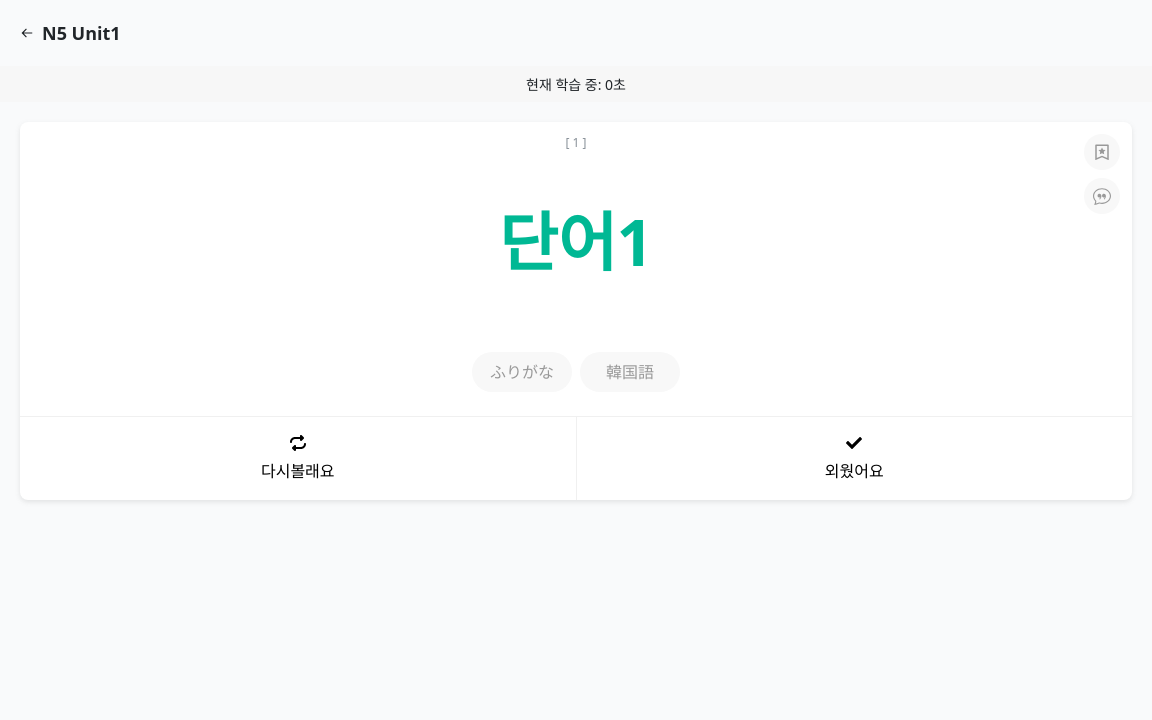
Test: 학습 페이지 흐름 › 마지막 단어를 다시 보기로 남기면 회독 완료로 처리하지 않는다
Check: the text "단어1" is shown, box x1=499 y1=194 x2=653 y2=290
Click the button "외웠어요" at (854, 458), box x1=576 y1=417 x2=1132 y2=500
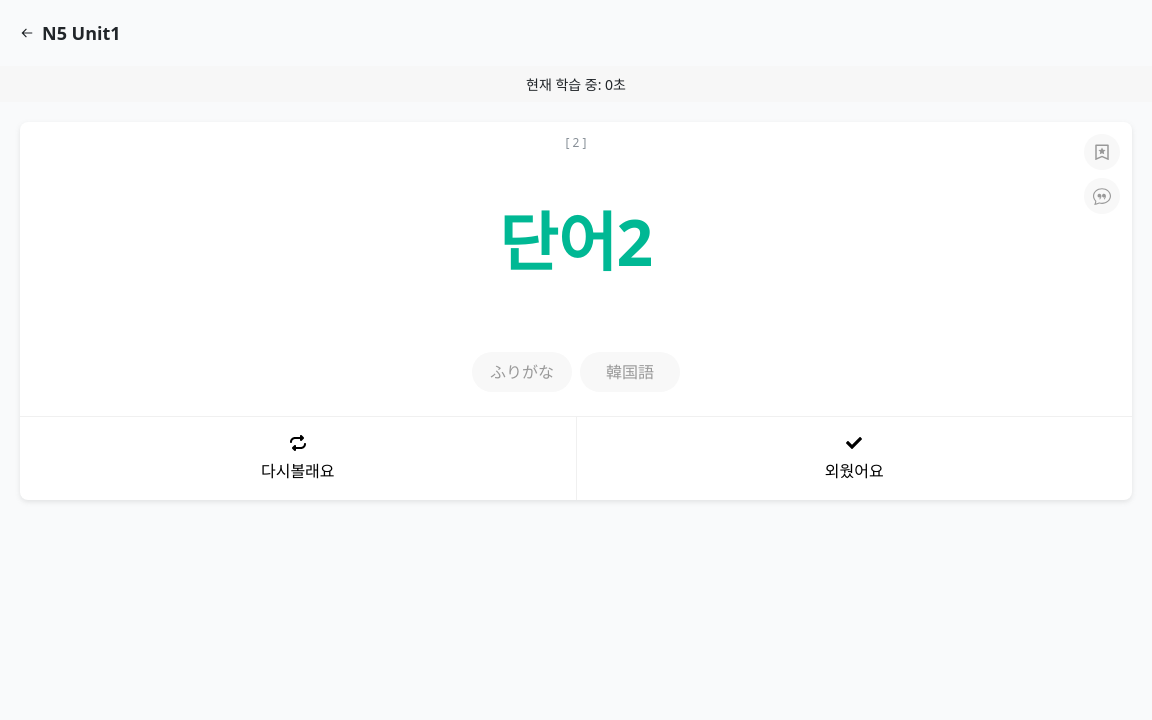
Click the button "외웠어요" at (854, 458), box x1=576 y1=417 x2=1132 y2=500
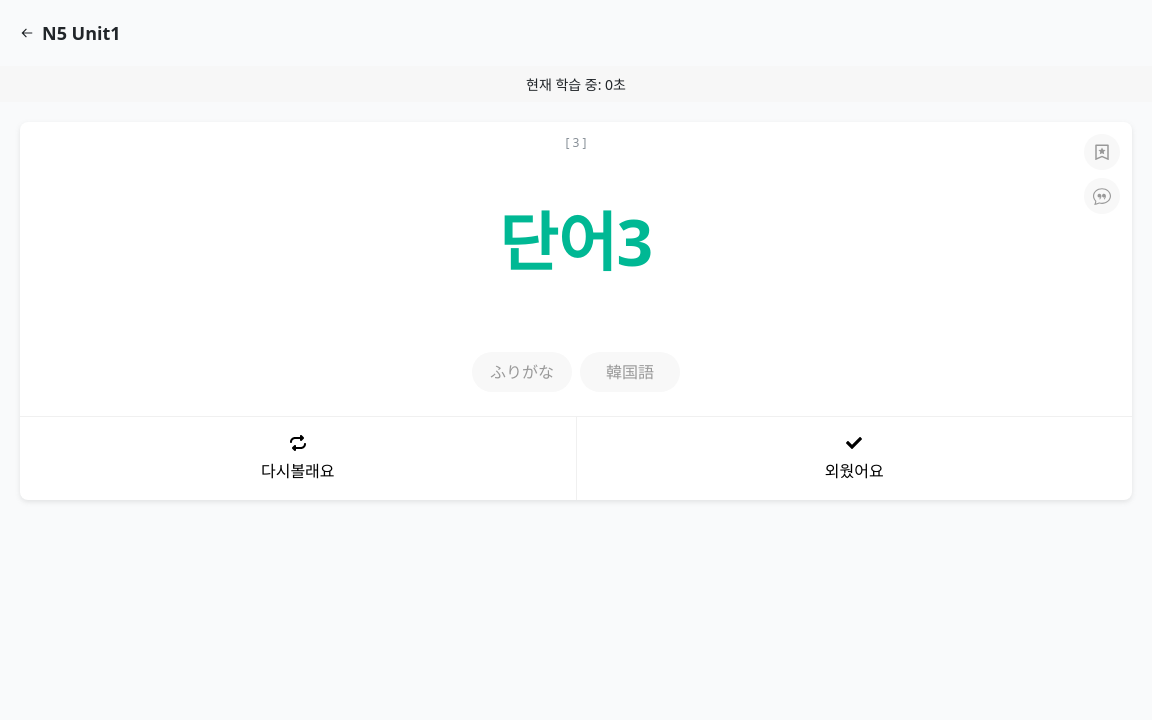
Click the button "다시볼래요" at (298, 458), box x1=20 y1=417 x2=576 y2=500
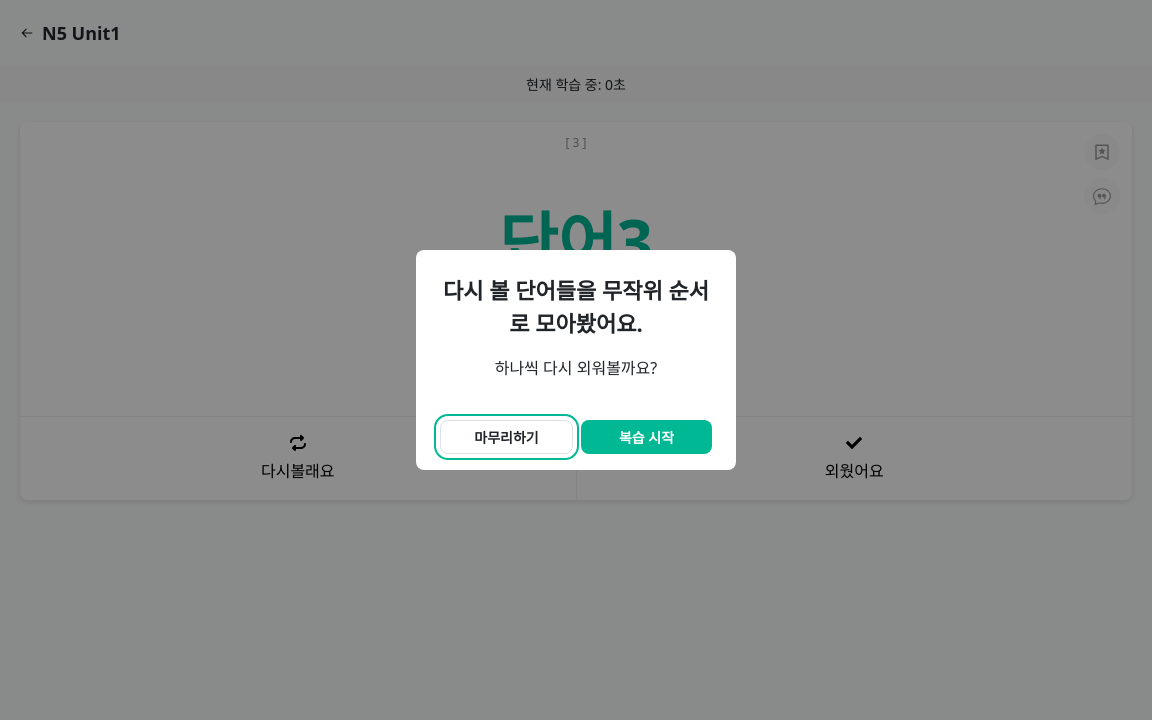
Check: the dialog "다시 볼 단어들을 무작위 순서로 모아봤어요." is shown, box x1=416 y1=250 x2=736 y2=470
Click the button "복습 시작" at (646, 437), box x1=581 y1=420 x2=712 y2=454
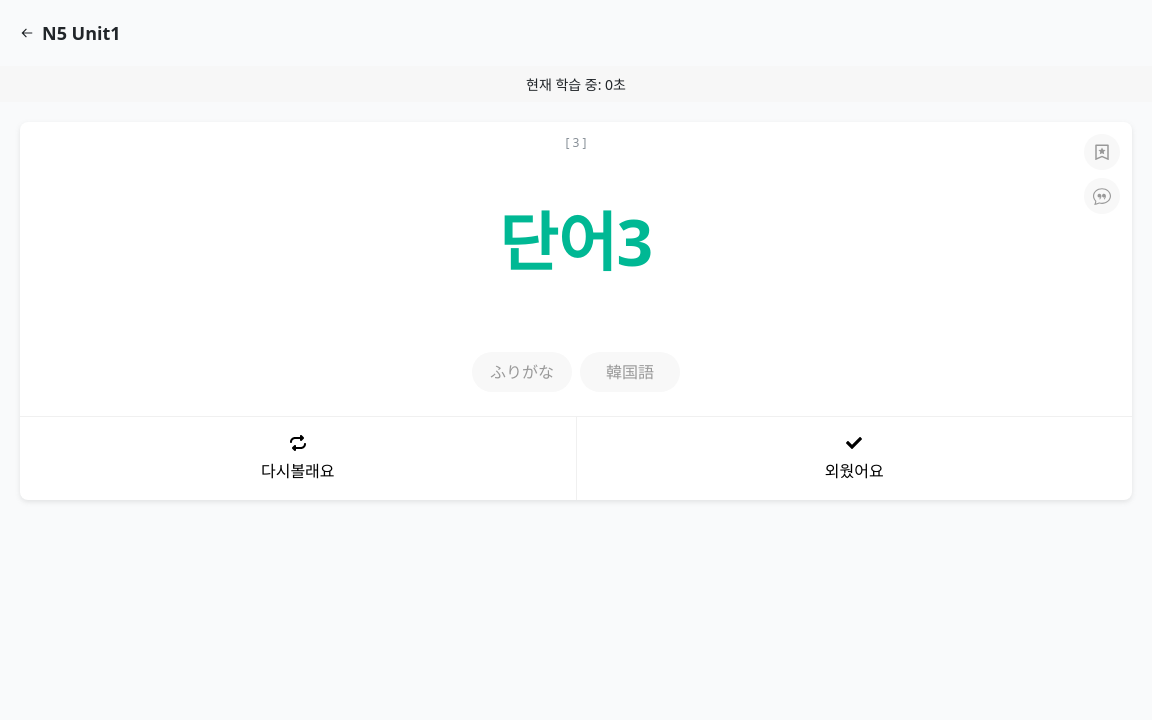
Check: the text "단어3" is shown, box x1=499 y1=194 x2=653 y2=290
Click the button "외웠어요" at (854, 458), box x1=576 y1=417 x2=1132 y2=500
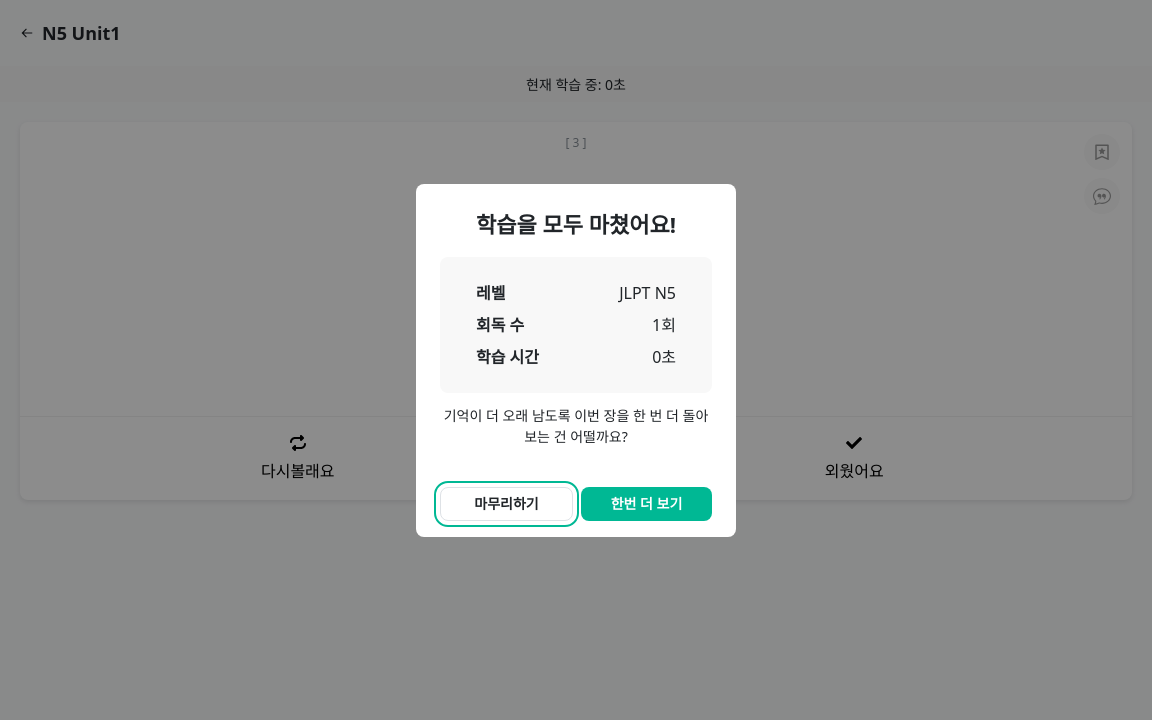
Check: the dialog "학습을 모두 마쳤어요!" is shown, box x1=416 y1=184 x2=736 y2=536
